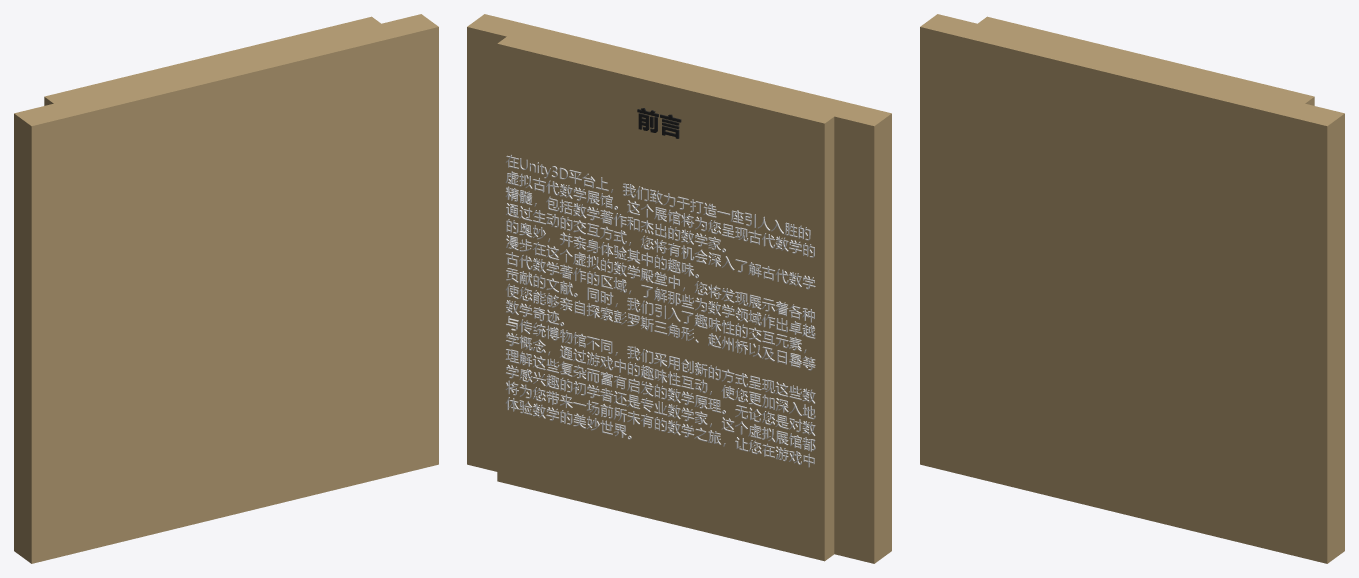
3 views of the same model, side by side, from view 1: azimuth 30°, elevation 25°; view 2: azimuth 150°, elevation 25°; view 3: azimuth 330°, elevation 25° (orthographic).
Visible parts, largest first — view 1: Obj3d66-1471355-20-286; view 2: Obj3d66-1471355-20-286, Text001, Obj3d66-1471355-18-13; view 3: Obj3d66-1471355-20-286.
Part boxes in pixels (x1=…): Obj3d66-1471355-20-286: x1=14, y1=14, x2=438, y2=563; Obj3d66-1471355-20-286: x1=467, y1=14, x2=891, y2=563; Text001: x1=505, y1=155, x2=815, y2=467; Obj3d66-1471355-18-13: x1=637, y1=108, x2=681, y2=138; Obj3d66-1471355-20-286: x1=920, y1=14, x2=1344, y2=563.
Size of the model in its own units: 2922 by 3000 by 365.
